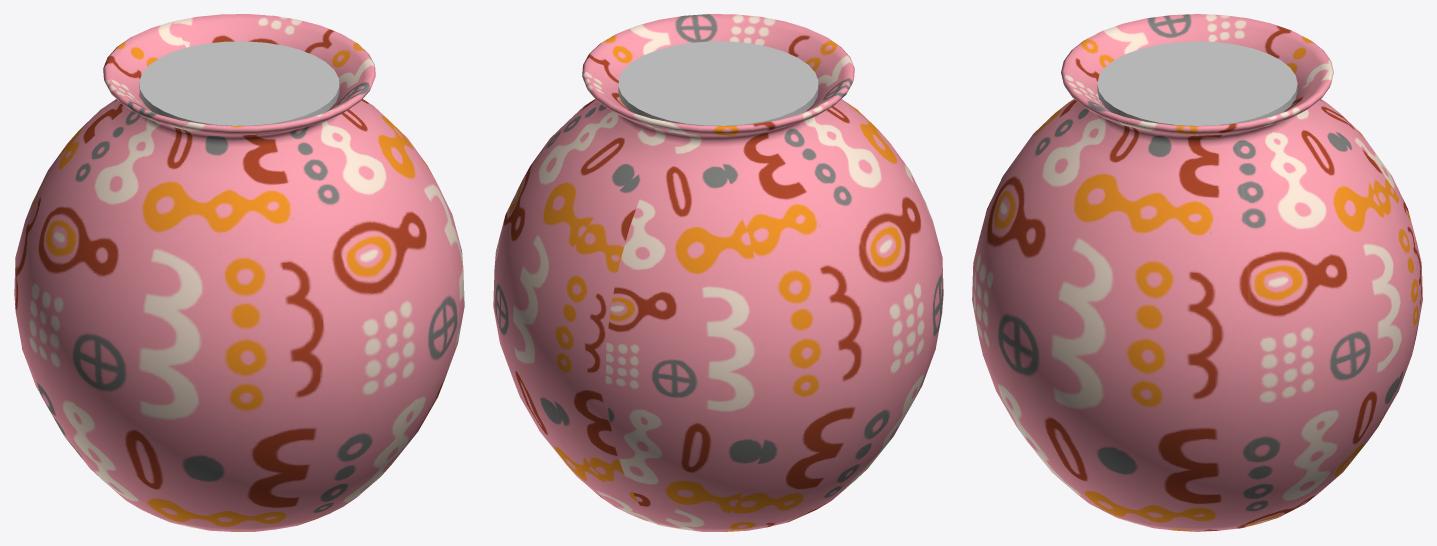
Rendered from Clay_pot_1.fbx.
The picture shows the model from 3 angles, left to right: view 1: azimuth 30°, elevation 25°; view 2: azimuth 150°, elevation 25°; view 3: azimuth 270°, elevation 25°; orthographic projection.
Visible parts, largest first — view 1: Pot_Large-Lid, Lid_Large; view 2: Pot_Large-Lid, Lid_Large; view 3: Pot_Large-Lid, Lid_Large.
Boxes of the visible parts, box(x1,y1,x2,y2) form: Pot_Large-Lid: box(14, 14, 464, 531); Lid_Large: box(139, 41, 339, 125); Pot_Large-Lid: box(493, 14, 943, 531); Lid_Large: box(618, 41, 818, 125); Pot_Large-Lid: box(972, 14, 1422, 531); Lid_Large: box(1097, 41, 1297, 126).
Bounding box in the file's own units: 66.59 × 67.41 × 66.59.
